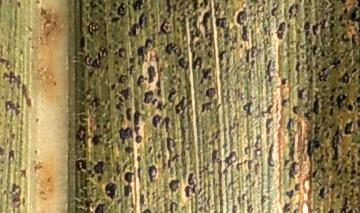tarspot: (82, 46, 107, 69), (285, 117, 295, 160), (199, 11, 213, 39), (331, 124, 341, 162), (174, 95, 192, 116), (133, 109, 143, 146), (122, 170, 134, 199), (117, 126, 134, 146), (19, 84, 33, 108), (9, 182, 21, 210), (306, 137, 321, 158), (3, 99, 20, 117), (164, 41, 182, 58), (266, 140, 276, 169), (86, 20, 100, 39), (199, 66, 213, 85), (235, 6, 249, 25), (104, 182, 117, 202), (264, 58, 274, 84), (145, 64, 157, 85), (211, 147, 223, 168), (74, 123, 87, 142), (164, 135, 177, 154), (276, 20, 287, 42), (287, 2, 299, 22), (335, 93, 348, 111), (263, 117, 275, 136), (288, 161, 300, 180), (167, 178, 182, 193), (223, 150, 238, 165), (127, 22, 141, 38), (117, 86, 131, 102), (147, 163, 158, 183), (312, 92, 321, 116), (115, 2, 129, 17), (74, 156, 87, 172), (151, 112, 163, 129), (191, 56, 203, 73), (240, 24, 251, 42), (178, 125, 187, 147), (338, 195, 349, 213), (183, 185, 197, 199), (261, 103, 275, 117), (188, 29, 201, 44), (338, 69, 350, 85), (138, 12, 149, 29), (177, 57, 190, 71), (204, 85, 217, 99), (157, 19, 169, 34), (213, 16, 228, 28), (350, 6, 360, 24), (94, 160, 105, 176), (136, 45, 147, 61), (166, 87, 177, 103), (7, 70, 17, 87), (329, 57, 342, 70), (90, 134, 104, 146), (163, 115, 174, 130), (270, 4, 281, 19), (201, 100, 213, 113), (296, 86, 308, 99), (116, 73, 130, 84), (242, 101, 253, 115), (344, 119, 353, 136), (124, 107, 134, 122), (143, 89, 153, 104), (77, 35, 86, 51), (164, 1, 172, 19), (255, 134, 264, 150), (131, 1, 144, 12), (93, 202, 106, 213), (312, 153, 325, 164), (316, 71, 329, 82), (113, 160, 122, 175), (317, 184, 326, 199), (168, 201, 179, 213), (123, 145, 136, 155), (135, 74, 145, 87), (186, 171, 195, 185), (1, 56, 11, 68), (281, 201, 291, 213), (318, 18, 327, 31), (341, 31, 350, 44), (312, 123, 321, 136), (311, 22, 319, 36), (117, 47, 127, 58), (90, 96, 100, 107), (83, 198, 93, 209), (317, 163, 327, 174), (38, 5, 47, 17), (350, 33, 359, 45), (323, 145, 330, 160), (7, 148, 15, 161), (135, 166, 143, 179), (246, 158, 254, 171), (310, 43, 318, 56), (284, 189, 294, 199), (235, 161, 244, 172), (211, 1, 220, 12), (302, 20, 311, 31), (303, 109, 312, 120), (181, 27, 188, 41), (19, 168, 27, 180), (155, 99, 163, 111), (218, 49, 226, 61), (244, 48, 250, 64), (319, 34, 327, 46), (42, 18, 51, 28), (87, 1, 97, 10), (253, 148, 263, 157), (244, 172, 252, 183), (223, 29, 231, 40), (281, 97, 289, 108), (292, 104, 300, 115), (16, 72, 22, 86), (8, 109, 14, 123), (20, 196, 27, 208), (139, 207, 153, 213), (138, 193, 145, 205), (205, 193, 212, 205), (232, 31, 239, 43), (308, 73, 314, 87), (115, 94, 124, 103), (282, 158, 291, 167), (1, 71, 9, 81), (110, 15, 120, 23), (127, 56, 137, 64), (115, 102, 123, 112), (144, 37, 152, 47), (171, 153, 181, 161), (221, 167, 229, 177), (246, 203, 254, 213), (293, 182, 301, 192), (342, 47, 352, 55), (250, 46, 256, 59), (128, 198, 135, 209), (166, 158, 173, 169), (190, 50, 197, 61), (191, 18, 198, 29), (260, 194, 267, 205), (294, 61, 301, 72), (328, 36, 335, 47), (327, 106, 334, 117), (9, 85, 15, 97), (86, 69, 94, 78), (205, 50, 213, 59), (191, 1, 199, 10), (231, 204, 239, 213), (280, 78, 288, 87), (294, 27, 303, 35), (310, 169, 318, 178), (294, 39, 300, 51), (243, 146, 250, 156), (240, 193, 247, 203), (225, 56, 232, 66), (228, 44, 238, 51), (264, 35, 271, 45), (328, 22, 335, 32), (346, 102, 353, 112), (156, 87, 162, 98), (153, 53, 159, 64), (26, 25, 34, 33), (128, 65, 136, 73), (103, 153, 111, 161), (351, 67, 359, 75), (326, 93, 334, 101), (103, 63, 110, 72), (96, 174, 103, 183), (135, 154, 142, 163), (155, 152, 162, 161), (105, 135, 114, 142), (161, 101, 168, 110), (285, 50, 292, 59), (293, 52, 300, 61), (342, 6, 349, 15), (338, 22, 347, 29), (122, 161, 128, 171), (118, 113, 124, 123), (218, 197, 224, 207), (235, 195, 241, 205), (249, 59, 255, 69), (264, 14, 270, 24), (82, 188, 88, 198), (18, 47, 25, 55), (32, 148, 39, 156), (109, 82, 116, 90), (86, 86, 93, 94), (117, 39, 125, 46), (175, 76, 183, 83), (206, 40, 213, 48), (202, 1, 209, 9), (224, 65, 231, 73), (286, 20, 293, 28), (257, 6, 264, 14), (302, 13, 310, 20), (303, 29, 310, 37), (330, 85, 337, 93), (333, 162, 340, 170), (80, 67, 85, 78), (111, 174, 117, 183), (161, 161, 167, 170), (337, 13, 343, 22), (324, 131, 330, 140), (356, 193, 360, 206), (107, 122, 112, 132), (263, 25, 268, 35), (305, 63, 310, 73), (350, 160, 355, 170), (44, 30, 51, 37), (36, 164, 43, 171), (40, 195, 47, 202), (109, 32, 116, 39), (151, 97, 158, 104), (208, 169, 215, 176), (180, 17, 187, 24), (224, 73, 231, 80), (329, 182, 336, 189), (155, 195, 162, 202), (15, 1, 21, 9), (34, 116, 40, 124), (51, 20, 57, 28), (7, 126, 13, 134), (1, 145, 5, 157), (36, 159, 44, 165), (111, 2, 119, 8), (101, 29, 107, 37), (170, 73, 178, 79), (150, 189, 156, 197), (196, 187, 202, 195), (206, 73, 212, 81), (180, 149, 186, 157), (299, 43, 305, 51), (307, 36, 313, 44), (354, 95, 360, 103), (356, 117, 360, 129), (336, 168, 342, 176), (344, 149, 350, 157), (356, 145, 360, 157), (342, 165, 348, 173), (171, 3, 176, 12), (177, 1, 186, 6), (300, 51, 305, 60), (319, 67, 328, 72), (355, 85, 360, 94), (37, 66, 44, 72), (83, 4, 90, 10), (101, 20, 108, 26), (106, 43, 112, 50), (94, 123, 101, 129), (81, 142, 88, 148), (128, 164, 134, 171), (146, 146, 152, 153), (147, 136, 153, 143), (151, 32, 157, 39), (158, 66, 164, 73), (197, 167, 203, 174), (203, 165, 209, 172), (206, 182, 213, 188), (198, 1, 204, 8), (215, 127, 221, 134), (222, 125, 228, 132), (222, 40, 229, 46), (238, 42, 244, 49), (271, 60, 277, 67), (295, 120, 301, 127), (329, 15, 335, 22), (319, 51, 326, 57), (331, 49, 338, 55), (327, 1, 334, 7), (321, 126, 327, 133), (349, 136, 355, 143), (349, 153, 355, 160), (353, 207, 360, 213), (38, 190, 46, 195), (88, 125, 93, 133), (175, 26, 180, 34), (167, 79, 175, 84), (158, 130, 163, 138), (201, 195, 206, 203), (198, 178, 203, 186), (325, 187, 330, 195), (326, 208, 334, 213), (320, 115, 325, 123), (355, 159, 360, 167), (218, 188, 223, 196), (9, 133, 15, 139), (97, 8, 103, 14), (98, 16, 104, 22), (107, 11, 113, 17), (113, 59, 119, 65), (112, 43, 118, 49), (114, 66, 120, 72), (88, 160, 94, 166), (86, 168, 92, 174), (104, 142, 110, 148), (163, 55, 169, 61), (287, 130, 293, 136), (248, 10, 252, 19), (330, 7, 336, 13), (338, 1, 347, 5), (354, 1, 360, 7), (304, 46, 310, 52), (309, 68, 315, 74), (356, 104, 360, 113), (31, 159, 36, 166), (46, 175, 51, 182), (109, 144, 114, 151), (136, 59, 141, 66), (145, 190, 150, 197), (146, 197, 151, 204), (200, 129, 205, 136), (201, 138, 206, 145), (207, 139, 212, 146), (209, 131, 214, 138), (293, 208, 300, 213), (78, 191, 83, 198), (324, 173, 331, 178), (313, 63, 318, 70), (347, 56, 352, 63), (337, 174, 342, 181), (355, 170, 360, 177), (357, 74, 360, 85), (102, 130, 110, 134), (260, 1, 268, 5), (26, 36, 32, 41), (52, 80, 57, 86), (37, 35, 43, 40), (47, 188, 53, 193), (113, 50, 118, 56), (102, 123, 107, 129), (106, 160, 111, 166), (83, 178, 89, 183), (143, 76, 148, 82), (94, 118, 100, 123), (149, 12, 154, 18), (151, 24, 156, 30), (164, 24, 169, 30), (156, 29, 161, 35), (169, 62, 174, 68), (170, 68, 176, 73), (175, 16, 180, 22), (119, 203, 124, 209), (197, 174, 203, 179), (185, 9, 191, 14), (179, 11, 185, 16), (197, 10, 202, 16), (214, 133, 219, 139), (257, 47, 262, 53), (335, 193, 340, 199), (346, 208, 352, 213), (285, 59, 291, 64), (345, 19, 350, 25), (320, 84, 326, 89), (329, 101, 335, 106), (327, 123, 332, 129), (354, 131, 360, 136), (350, 169, 355, 175), (345, 179, 351, 184), (1, 159, 5, 166), (2, 189, 6, 196), (107, 102, 111, 109), (351, 180, 355, 187), (1, 165, 4, 174), (30, 44, 35, 49), (15, 95, 20, 100), (103, 99, 108, 104), (158, 13, 163, 18), (153, 130, 158, 135), (174, 156, 179, 161), (198, 205, 203, 210), (197, 45, 202, 50), (287, 67, 292, 72), (289, 39, 294, 44), (338, 85, 343, 90), (341, 158, 346, 163), (355, 139, 360, 144), (349, 188, 354, 193), (350, 193, 355, 198), (1, 48, 4, 56), (1, 84, 5, 90), (90, 173, 94, 179), (83, 173, 89, 177), (152, 17, 156, 23), (153, 135, 159, 139), (203, 43, 207, 49), (180, 23, 186, 27), (253, 17, 257, 23), (252, 11, 256, 17), (356, 181, 360, 187), (3, 123, 6, 130), (223, 1, 230, 4), (114, 73, 119, 77), (125, 66, 129, 71), (105, 118, 110, 122), (186, 1, 191, 5), (298, 23, 302, 28), (303, 6, 307, 11), (334, 32, 339, 36), (324, 40, 328, 45), (331, 161, 335, 166), (343, 184, 347, 189), (7, 1, 13, 4), (35, 1, 41, 4), (1, 177, 3, 186), (357, 176, 360, 182), (350, 174, 353, 180), (1, 110, 3, 118), (1, 121, 3, 129), (98, 1, 102, 5), (315, 165, 319, 169), (1, 95, 4, 100), (351, 129, 354, 134), (1, 1, 3, 7), (142, 1, 147, 3), (1, 43, 3, 47)
